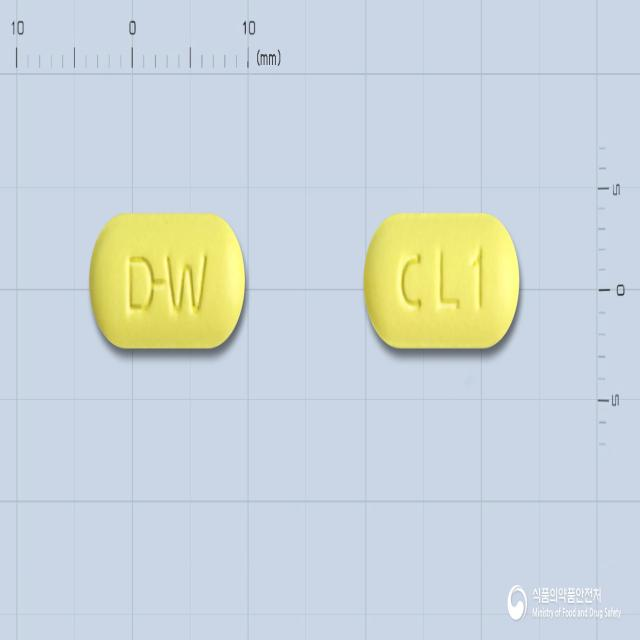Clearmycin: (362, 211, 520, 350), (88, 214, 244, 350)
